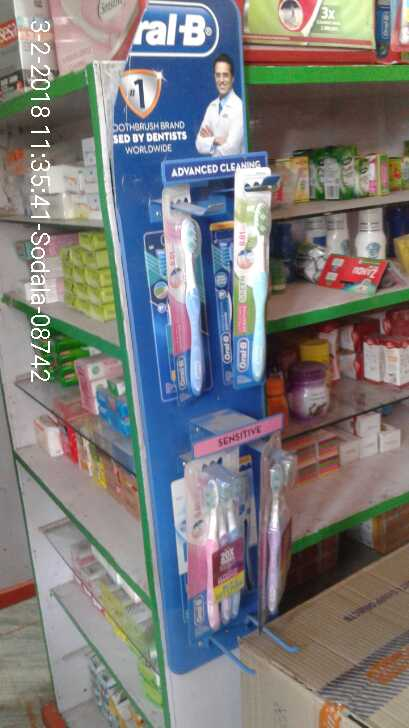oralb: (184, 460, 253, 631), (161, 199, 216, 399), (225, 161, 269, 385), (260, 431, 292, 622)
